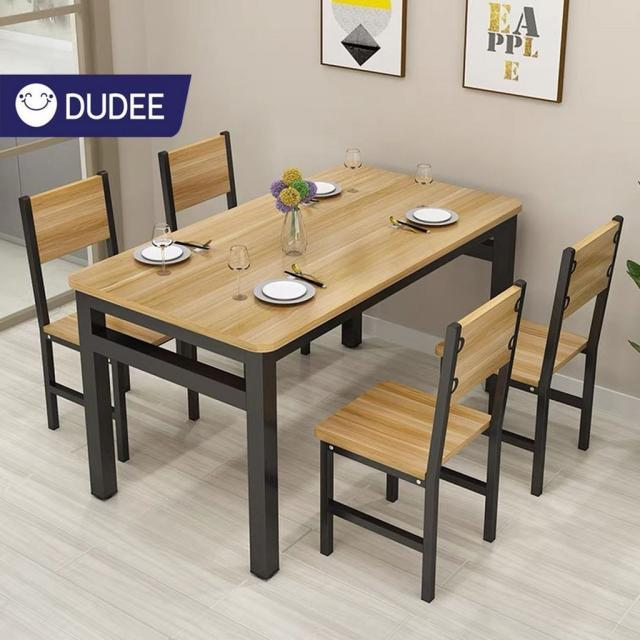table: (70, 133, 514, 376)
